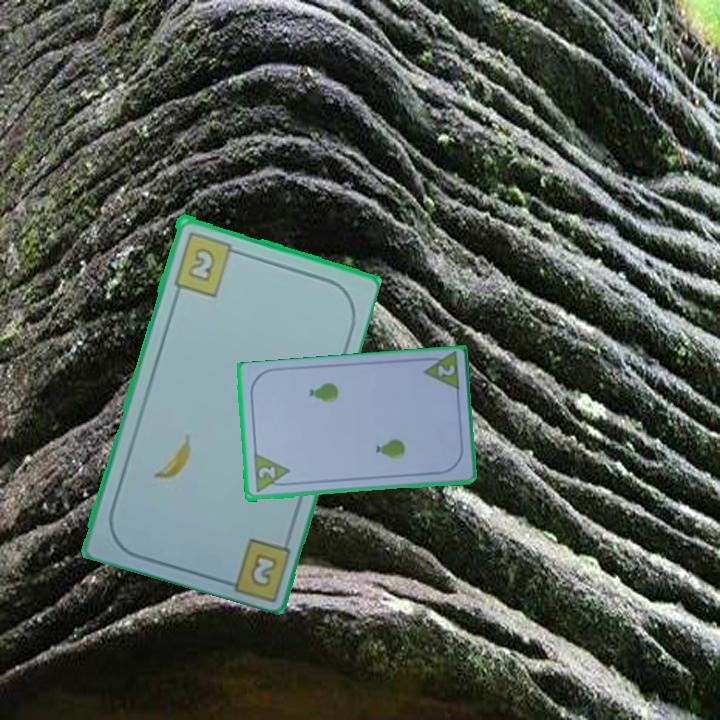2b: (170, 227, 243, 299), (246, 549, 280, 590)
2p: (250, 452, 293, 496), (434, 362, 458, 379)
